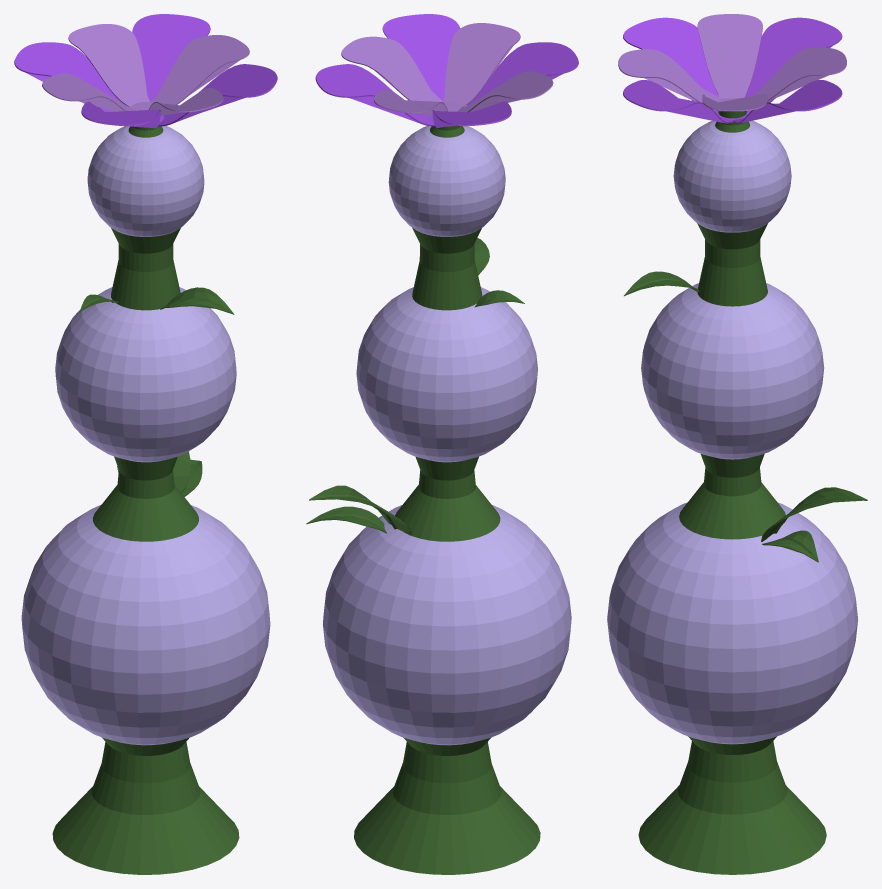
Rendered from fleur 3.1.fbx.
3 renders of one model, left to right at view 1: azimuth 30°, elevation 25°; view 2: azimuth 150°, elevation 25°; view 3: azimuth 270°, elevation 25°, orthographic.
Visible parts, largest first — view 1: Sphère, Cylindre, Sphère.001, Sphère.002, Cercle.002, Cercle.001, Cercle.012, Cercle; view 2: Sphère, Cylindre, Sphère.001, Sphère.002, Cercle.002, Cercle.001, Cercle, Cercle.011; view 3: Sphère, Cylindre, Sphère.001, Sphère.002, Cercle.001, Cercle.002, Cercle, Cercle.011, Cercle.012.
Boxes of the visible parts, x1,y1,x2,y2 form: Sphère: (21,505,270,745); Cylindre: (52,126,239,874); Sphère.001: (55,287,236,462); Sphère.002: (87,126,204,236); Cercle.002: (42,24,249,115); Cercle.001: (14,14,277,128); Cercle.012: (160,287,234,314); Cercle: (117,451,191,493); Sphère: (323,505,571,745); Cylindre: (354,125,540,874); Sphère.001: (356,287,537,462); Sphère.002: (388,126,505,236); Cercle.002: (341,23,553,115); Cercle.001: (315,14,578,128); Cercle: (309,485,411,535); Cercle.011: (306,506,386,533); Sphère: (607,502,857,744); Cylindre: (638,111,826,874); Sphère.001: (641,283,824,459); Sphère.002: (673,120,791,232); Cercle.001: (623,17,842,123); Cercle.002: (618,14,846,111); Cercle: (761,487,867,541); Cercle.011: (762,530,818,562); Cercle.012: (624,271,699,296).
Bounding box in the file's own units: 272 × 924 × 283.
